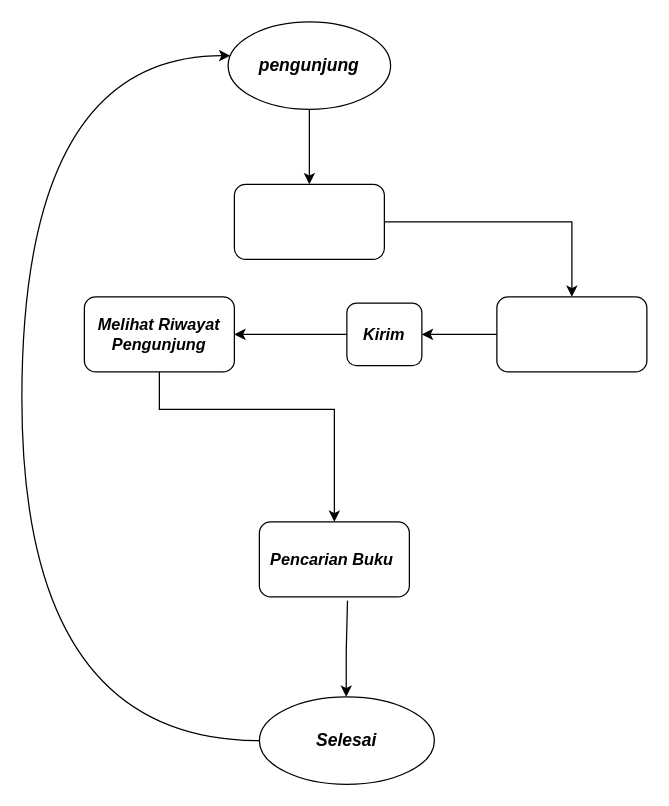
Some shapes in this 669 by 806 pixel diagram are drawn without their labels. Each missing label, with the centre of its shape:
Isi From Pengunjung: the point at 571,334
Masuk Keperpustakaan Digital: the point at 308,221
